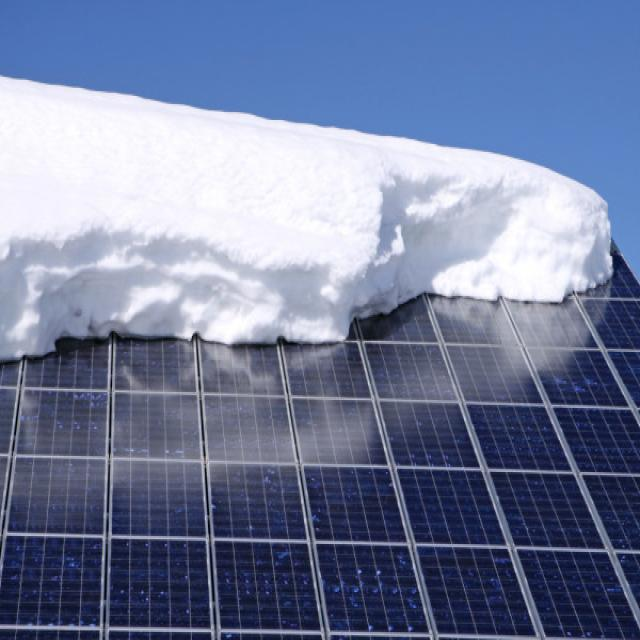snow covered: (4, 263, 633, 636)
